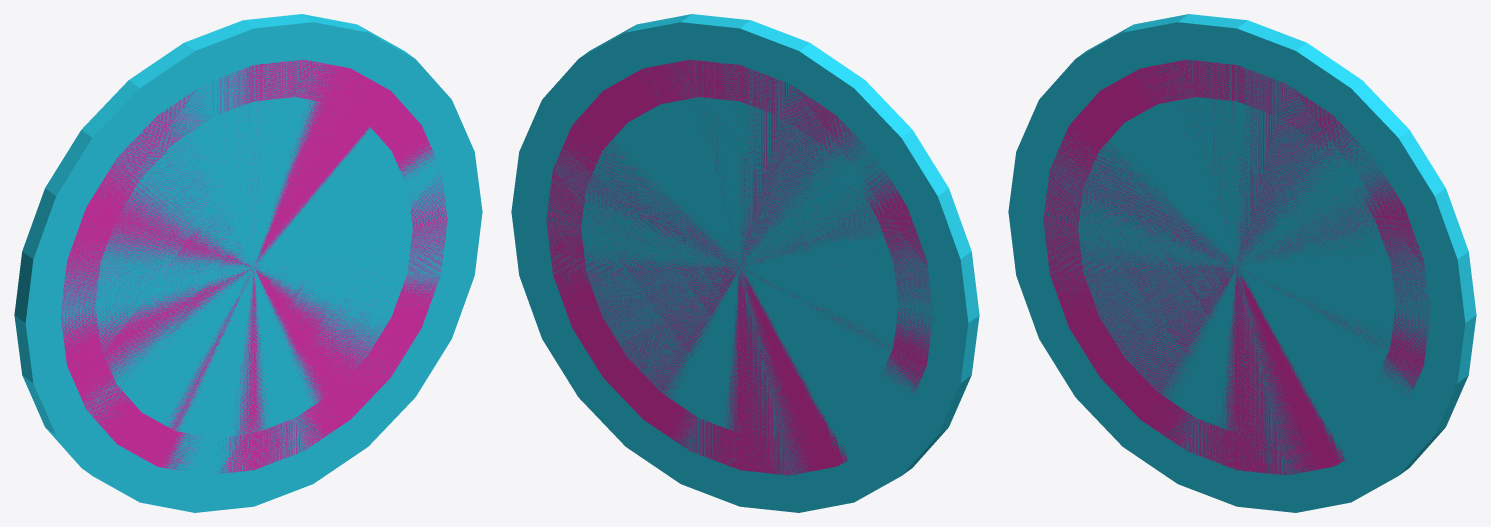
The model's file is time_portal.glb.
The picture shows the model from 3 angles, left to right: view 1: azimuth 30°, elevation 25°; view 2: azimuth 150°, elevation 25°; view 3: azimuth 330°, elevation 25°; orthographic projection.
Visible parts, largest first — view 1: part_2, part_0, part_1; view 2: part_2, part_1, part_0; view 3: part_2, part_1, part_0.
Part boxes in pixels (bbox=[...]): part_2: bbox=[14, 14, 482, 512]; part_0: bbox=[95, 97, 412, 437]; part_1: bbox=[61, 59, 447, 473]; part_2: bbox=[511, 14, 979, 512]; part_1: bbox=[546, 59, 933, 475]; part_0: bbox=[581, 97, 898, 437]; part_2: bbox=[1008, 14, 1476, 512]; part_1: bbox=[1043, 59, 1430, 475]; part_0: bbox=[1078, 97, 1395, 437].
Size of the model in its own units: 2.36 by 2.36 by 0.1.
